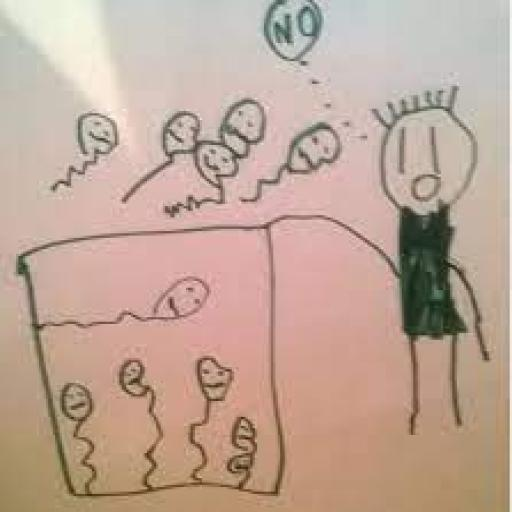person: (363, 78, 492, 449), (28, 269, 218, 340), (42, 376, 121, 496), (112, 355, 180, 491), (191, 92, 267, 212), (267, 104, 350, 212), (40, 96, 123, 197), (176, 351, 237, 487), (130, 94, 198, 196), (227, 413, 268, 512)
